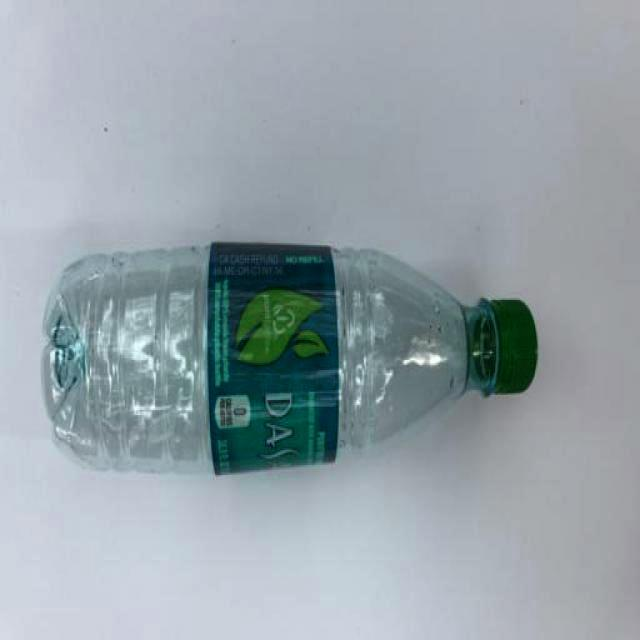bottle: (40, 240, 540, 477)
